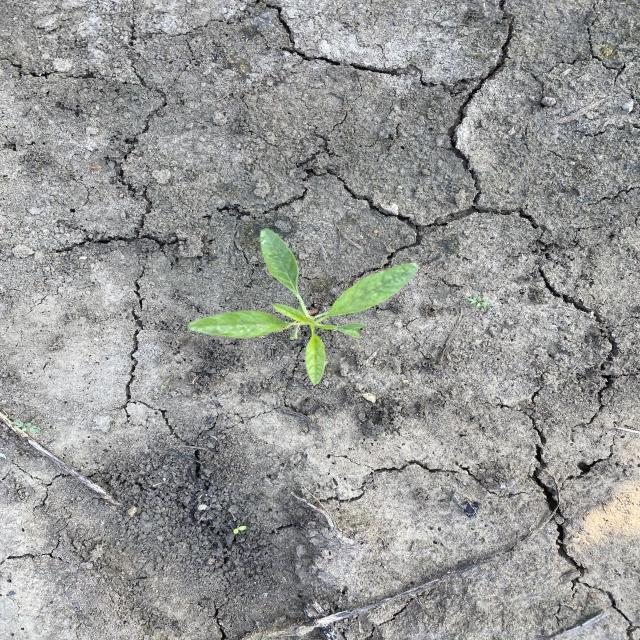Waterhemp: (184, 228, 421, 386)
